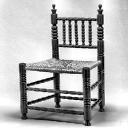chair_success: (12, 1, 111, 126)
